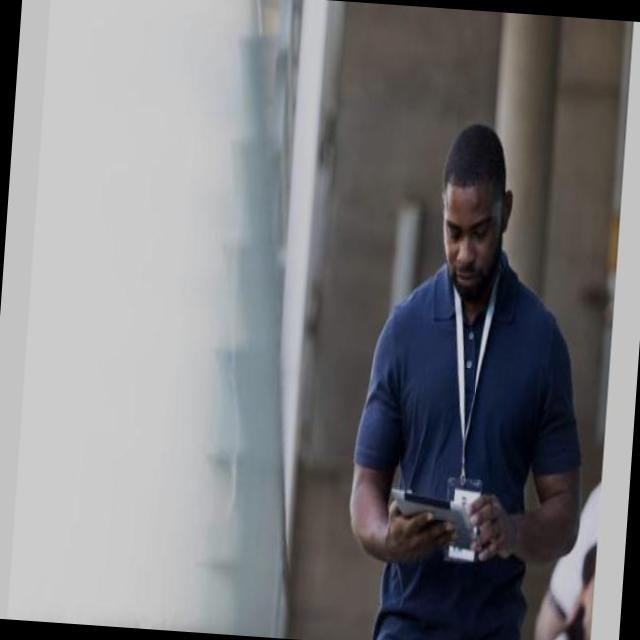id_card: (429, 251, 504, 566)
